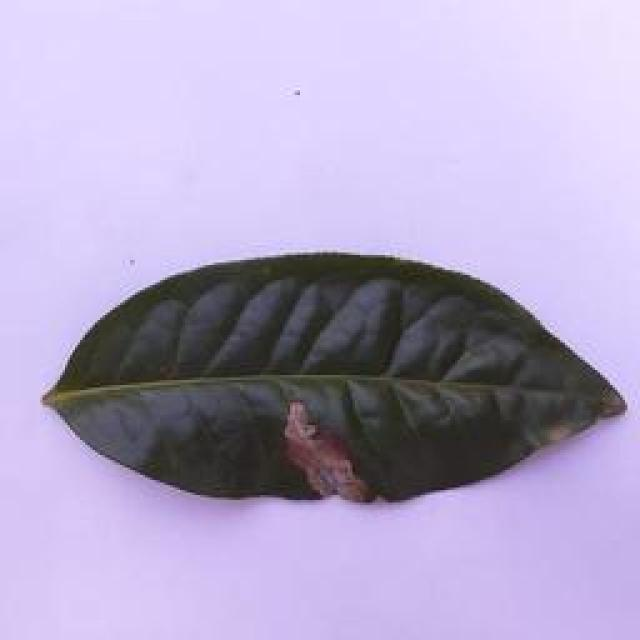Gray Blight: (33, 248, 626, 510)
